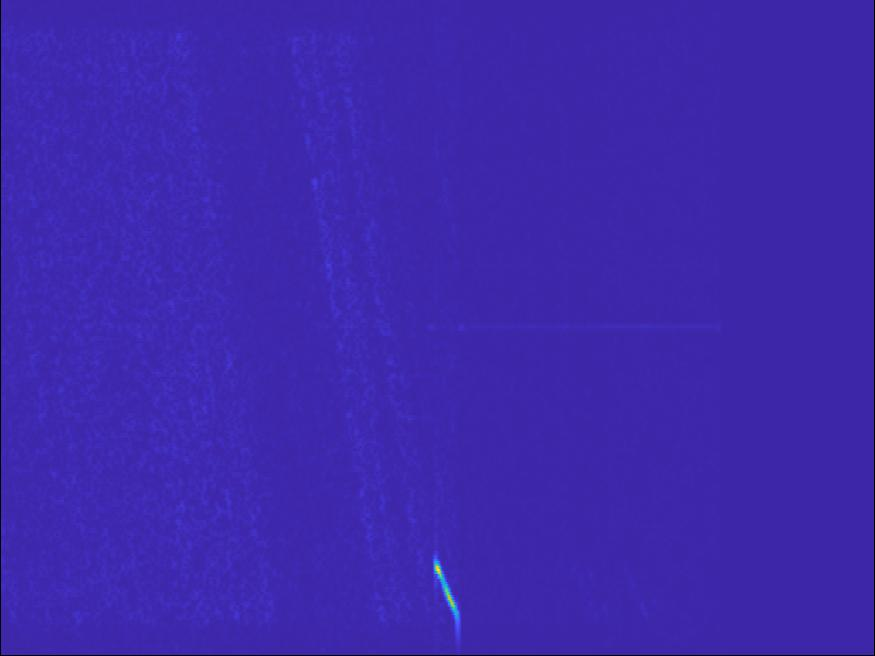Interference: (134, 206, 222, 260), (166, 474, 221, 517), (451, 1, 526, 32)
